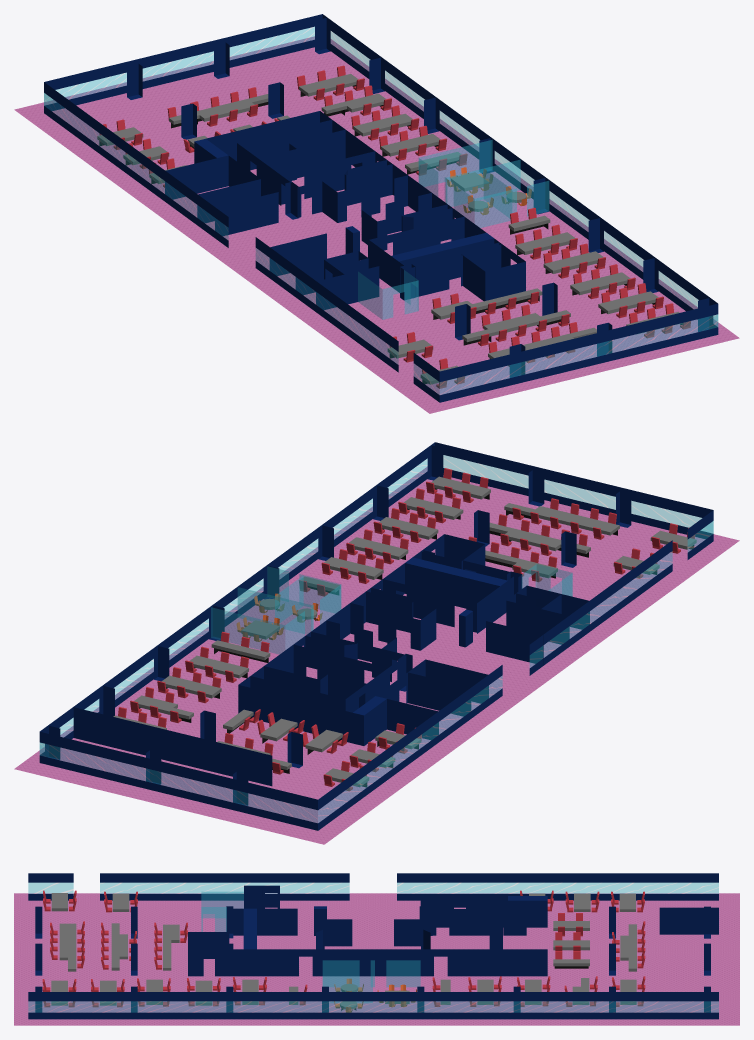
Rendered from tablas2-P0.obj.
3 views of the same model, one above another, from view 1: azimuth 30°, elevation 25°; view 2: azimuth 150°, elevation 25°; view 3: azimuth 270°, elevation 25° (orthographic). The views are drawn at different scales.
Visible parts, largest first — view 1: planta_0_Cube.056; view 2: planta_0_Cube.056; view 3: planta_0_Cube.056.
Boxes of the visible parts, x1,y1,x2,y2 form: planta_0_Cube.056: (14,14,739,413); planta_0_Cube.056: (14,442,739,844); planta_0_Cube.056: (14,873,739,1025).
Bounding box in the file's own units: 5.87 × 0.5785 × 13.62.
